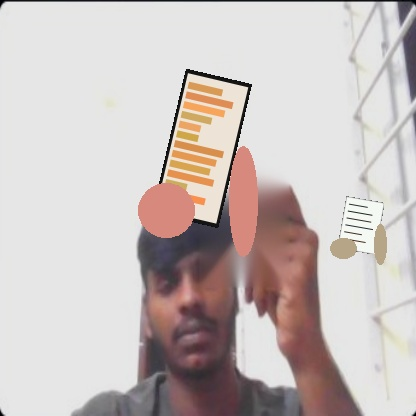cell_phone: (152, 69, 252, 228)
cheat_chit: (337, 196, 384, 254)
